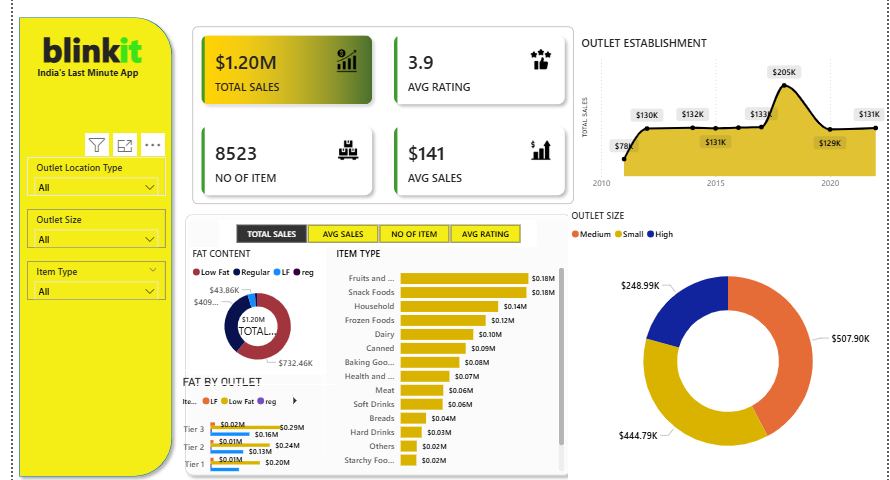

The dashboard page shown, as its layout file describes it:
{"tool":"powerbi","page":{"name":"Page 1","canvas":[1280,720],"ordinal":0},"visuals":[{"type":"shape","box":[0,30.2,241.9,690.4],"z":0},{"type":"textbox","box":[30.2,48.7,169.7,97.4],"z":1000},{"type":"textbox","box":[30.3,107.4,169.3,38.5],"z":2000},{"type":"cardVisual","fields":{"Data":["BlinkIT Grocery Data.TOTAL SALES","BlinkIT Grocery Data.AVG RATING","BlinkIT Grocery Data.NO OF ITEM","BlinkIT Grocery Data.AVG SALES"]},"box":[257,48.7,569.4,270.4],"z":3000},{"type":"shape","box":[242.2,319.3,583.6,400.5],"z":4000},{"type":"donutChart","title":"FAT CONTENT","fields":{"Y":["BlinkIT Grocery Data.TOTAL SALES"],"Category":["BlinkIT Grocery Data.Item Fat Content"]},"box":[257.4,375.7,200.9,187.2],"z":5000},{"type":"slicer","fields":{"Values":["Metrics.Metrics"]},"box":[301.5,336.6,465.4,39.5],"z":6000},{"type":"cardVisual","fields":{"Data":["BlinkIT Grocery Data.TOTAL SALES"]},"box":[301.4,445.9,101.8,90.8],"z":7000},{"type":"clusteredBarChart","title":"FAT BY OUTLET","fields":{"Y":["BlinkIT Grocery Data.TOTAL SALES"],"Category":["BlinkIT Grocery Data.Outlet Location Type"],"Series":["BlinkIT Grocery Data.Item Fat Content"]},"box":[242.2,562.9,188.6,156.9],"z":8000},{"type":"shape","box":[249.1,550.5,209.2,12.4],"z":9000},{"type":"shape","box":[448.7,396.4,12,280.8],"z":10000},{"type":"barChart","title":"ITEM TYPE","fields":{"Y":["BlinkIT Grocery Data.TOTAL SALES"],"Category":["BlinkIT Grocery Data.Item Type"]},"box":[468.3,376.7,343.3,333.3],"z":11000},{"type":"lineChart","title":"OUTLET ESTABLISHMENT ","fields":{"Category":["BlinkIT Grocery Data.Outlet Establishment Year"],"Y":["BlinkIT Grocery Data.TOTAL SALES"]},"box":[826.8,65.9,453.7,235.6],"z":12000},{"type":"shape","box":[269.1,570.5,209.2,12.4],"z":13000},{"type":"donutChart","title":"OUTLET SIZE","fields":{"Y":["BlinkIT Grocery Data.TOTAL SALES"],"Category":["BlinkIT Grocery Data.Outlet Size"]},"box":[811.7,320,468.3,400],"z":14000},{"type":"slicer","fields":{"Values":["BlinkIT Grocery Data.Outlet Location Type"]},"box":[20,245,203.3,56.7],"z":15000},{"type":"slicer","fields":{"Values":["BlinkIT Grocery Data.Outlet Size"]},"box":[20,320,203.3,56.7],"z":16000},{"type":"slicer","fields":{"Values":["BlinkIT Grocery Data.Item Type"]},"box":[20,396.7,203.3,56.7],"z":17000}]}

Visuals, with their boxes on the page's 1280x720 design canvas (x1, y1, x2, y2). These are canvas units, not pixel positions in the 890x480 screenshot, which may show the page scaled, cropped or inside an application window:
shape: crop(0, 30, 242, 721)
textbox: crop(30, 49, 200, 146)
textbox: crop(30, 107, 200, 146)
cardVisual - BlinkIT Grocery Data.TOTAL SALES x BlinkIT Grocery Data.AVG RATING: crop(257, 49, 826, 319)
shape: crop(242, 319, 826, 720)
"FAT CONTENT" donutChart: crop(257, 376, 458, 563)
slicer - Metrics.Metrics: crop(302, 337, 767, 376)
cardVisual - BlinkIT Grocery Data.TOTAL SALES: crop(301, 446, 403, 537)
"FAT BY OUTLET" clusteredBarChart: crop(242, 563, 431, 720)
shape: crop(249, 550, 458, 563)
shape: crop(449, 396, 461, 677)
"ITEM TYPE" barChart: crop(468, 377, 812, 710)
"OUTLET ESTABLISHMENT " lineChart: crop(827, 66, 1280, 302)
shape: crop(269, 570, 478, 583)
"OUTLET SIZE" donutChart: crop(812, 320, 1280, 720)
slicer - BlinkIT Grocery Data.Outlet Location Type: crop(20, 245, 223, 302)
slicer - BlinkIT Grocery Data.Outlet Size: crop(20, 320, 223, 377)
slicer - BlinkIT Grocery Data.Item Type: crop(20, 397, 223, 453)
